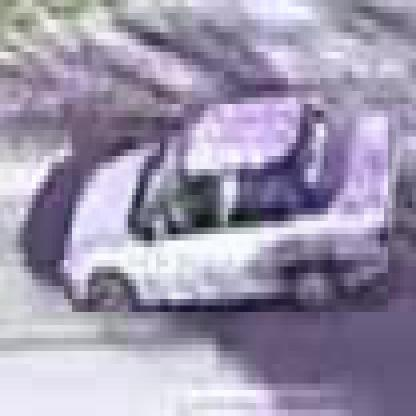car: (73, 92, 393, 320)
